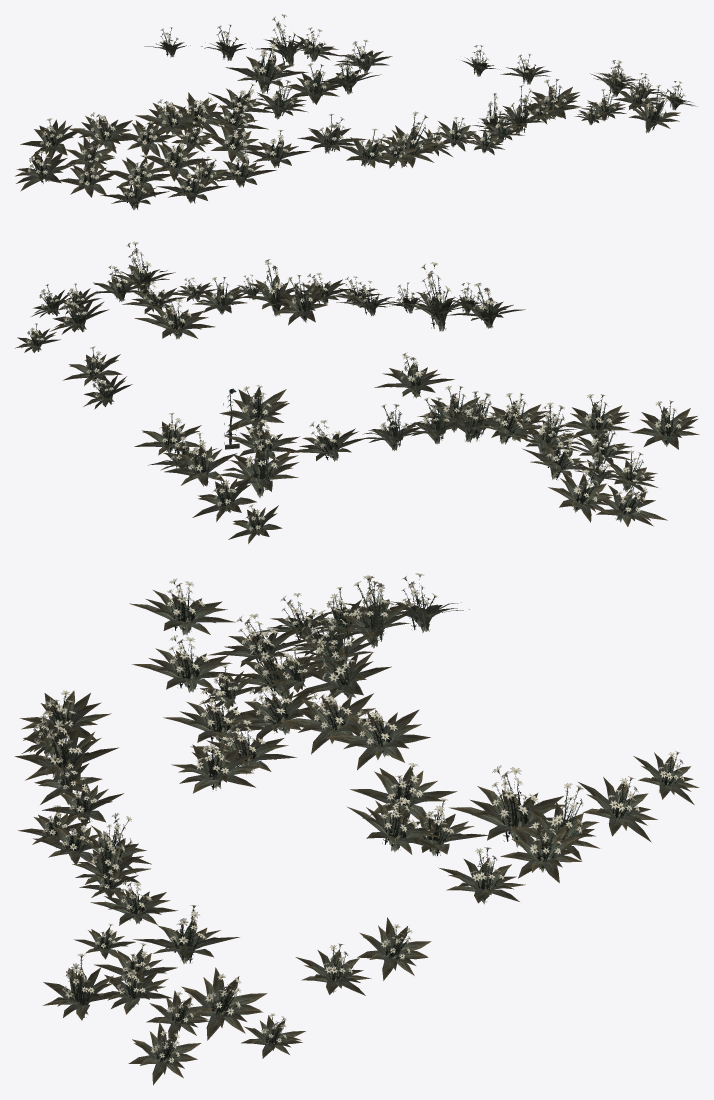
Rendered from grass10.fbx.
The picture shows the model from 3 angles, top to bottom: view 1: azimuth 30°, elevation 25°; view 2: azimuth 150°, elevation 25°; view 3: azimuth 270°, elevation 25°; orthographic projection. The views are drawn at different scales.
Visible parts, largest first — view 1: m111210_0:1, m111210_0:2; view 2: m111210_0:1, m111210_0:2; view 3: m111210_0:1, m111210_0:2.
Boxes of the visible parts, bbox=[...] form: m111210_0:1: bbox=[15, 14, 392, 210]; m111210_0:2: bbox=[337, 45, 696, 168]; m111210_0:1: bbox=[134, 352, 699, 543]; m111210_0:2: bbox=[15, 241, 525, 449]; m111210_0:1: bbox=[129, 573, 699, 904]; m111210_0:2: bbox=[14, 690, 431, 1085].
Bounding box in the file's own units: 103097 × 25857 × 65622.
2 materials, 2 textured.
